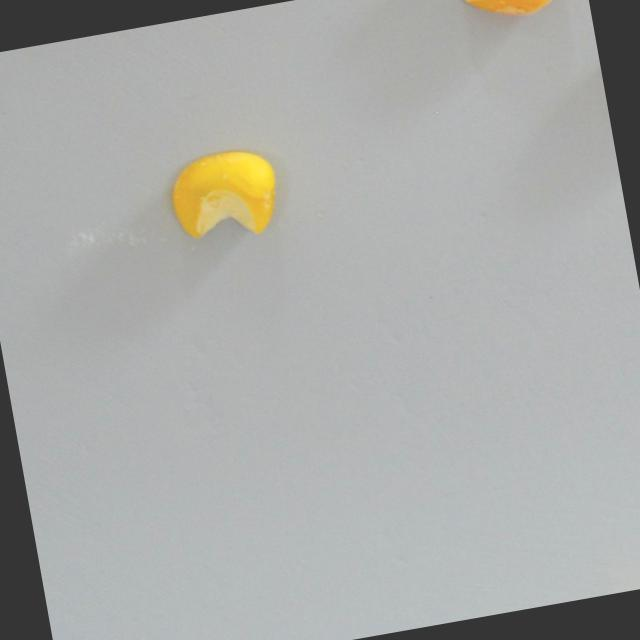pelicula: (158, 138, 290, 253), (453, 0, 579, 30)
